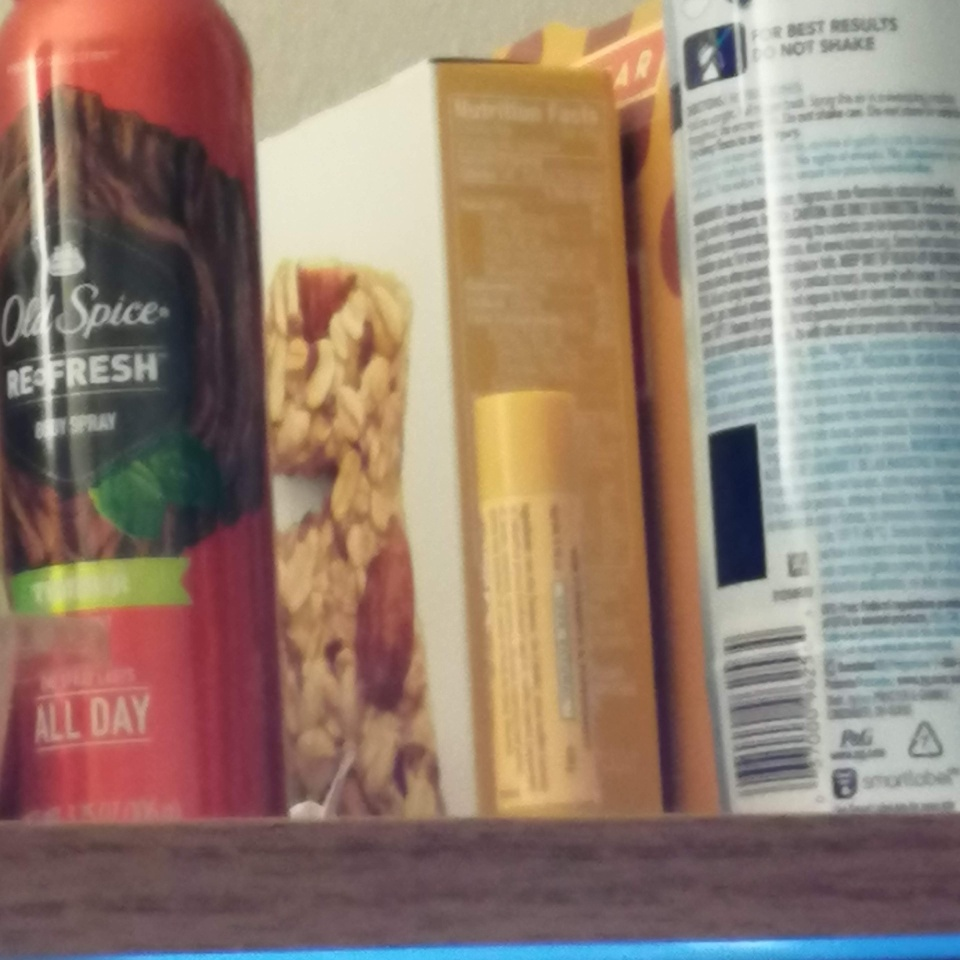chapstick: (467, 386, 615, 819)
